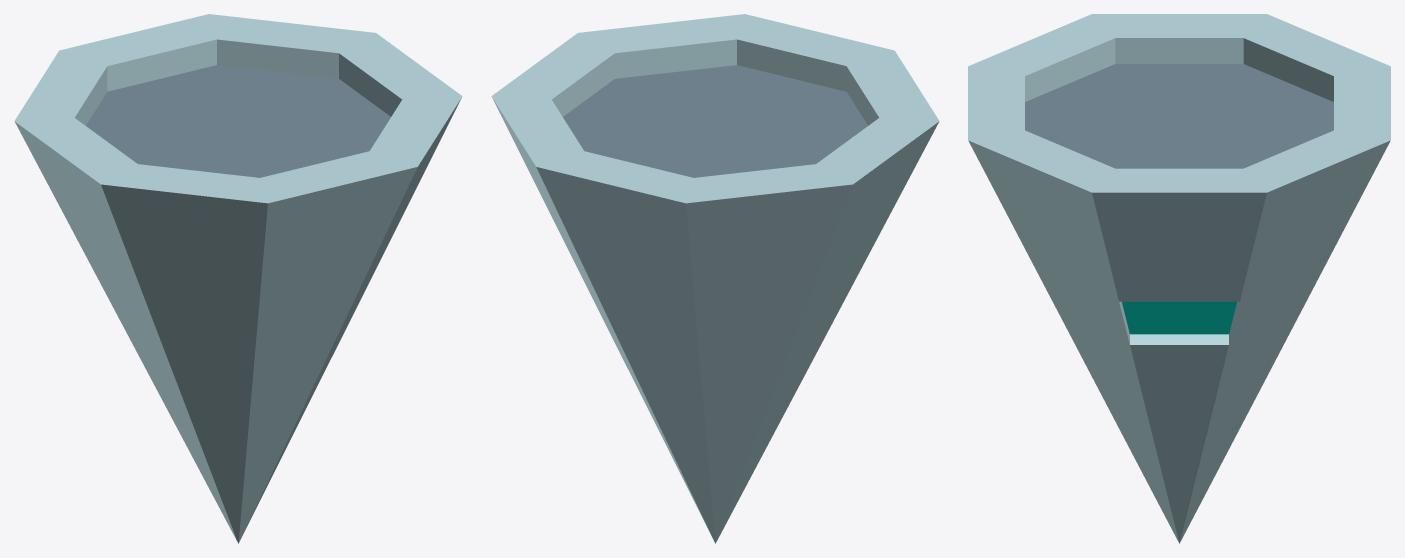
The model's file is vase-03.fbx.
3 renders of one model, left to right at view 1: azimuth 30°, elevation 25°; view 2: azimuth 150°, elevation 25°; view 3: azimuth 270°, elevation 25°, orthographic.
Parts seen in each view (by area): view 1: vase-03; view 2: vase-03; view 3: vase-03.
Part boxes in pixels (x1=…): vase-03: x1=14, y1=14, x2=462, y2=543; vase-03: x1=491, y1=14, x2=939, y2=543; vase-03: x1=968, y1=14, x2=1390, y2=543.
Size of the model in its own units: 14.78 by 17 by 14.78.
